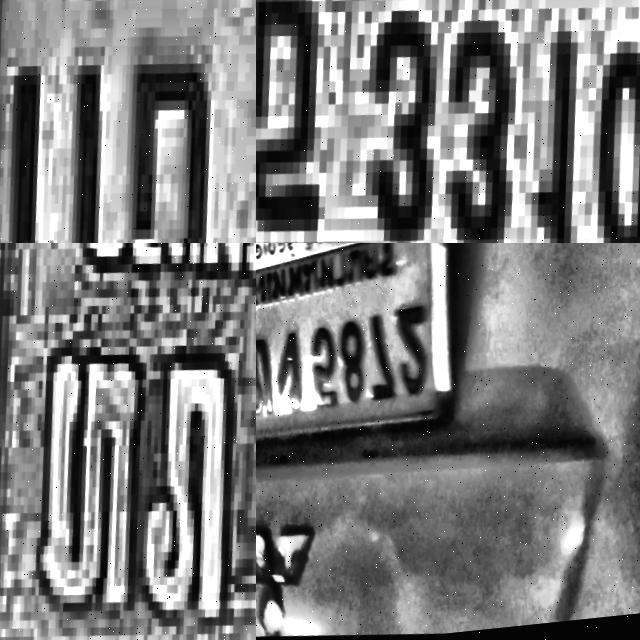license-plate: (0, 243, 256, 640), (256, 0, 640, 243), (0, 0, 256, 243), (256, 243, 428, 440)
